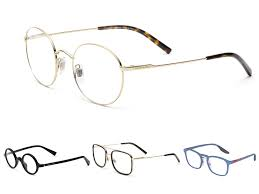g.y: (71, 35, 131, 108)
